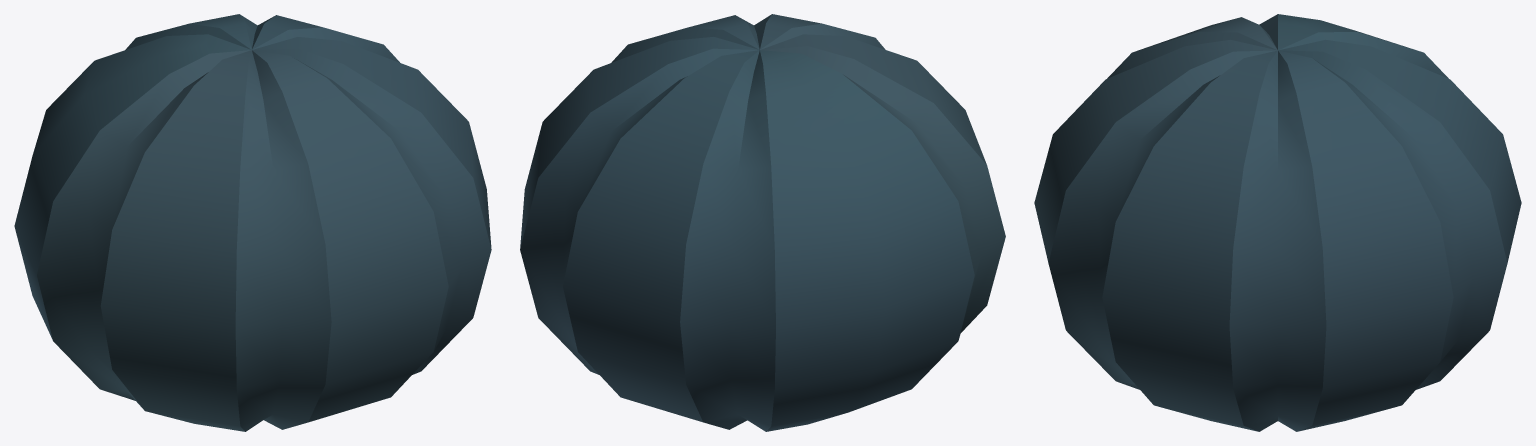
Rendered from pumpkin_burnt.fbx.
3 views of the same model, side by side, from view 1: azimuth 30°, elevation 25°; view 2: azimuth 150°, elevation 25°; view 3: azimuth 270°, elevation 25° (orthographic).
Visible parts, largest first — view 1: pumpkin_burnt; view 2: pumpkin_burnt; view 3: pumpkin_burnt.
Boxes of the visible parts, x1,y1,x2,y2 form: pumpkin_burnt: (14,14,491,431); pumpkin_burnt: (520,14,1005,431); pumpkin_burnt: (1034,14,1521,431).
Size of the model in its own units: 198 by 160 by 196.
